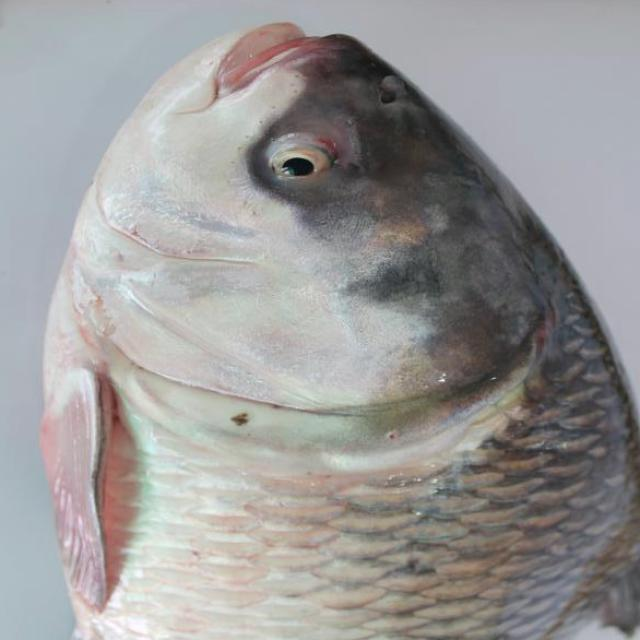Catla: (38, 22, 640, 640)
